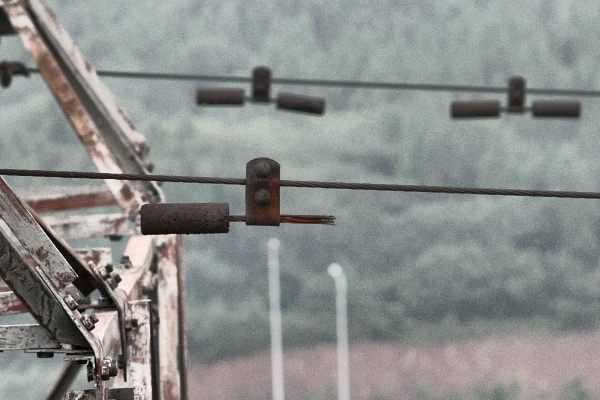damper: (190, 63, 327, 119), (447, 72, 584, 122)
damper_defect: (135, 154, 343, 239)
